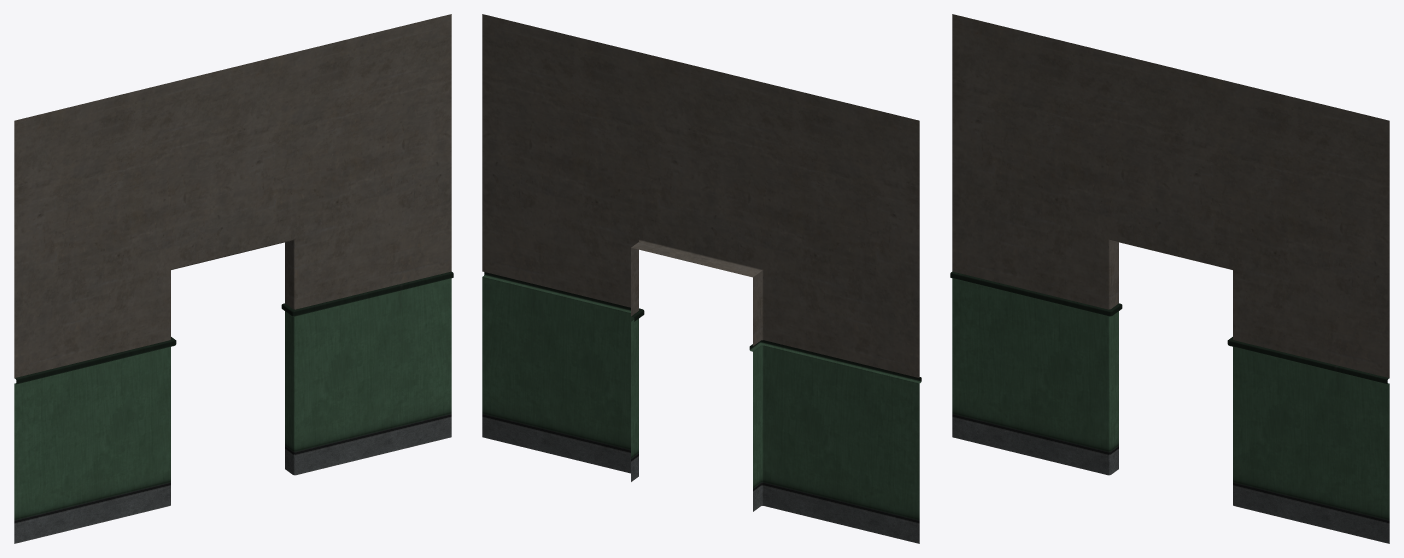
File: Psychiatric_Ward_Infirmary_Wall_4m_Door_A_Bare.glb
The picture shows the model from 3 angles, left to right: view 1: azimuth 30°, elevation 25°; view 2: azimuth 150°, elevation 25°; view 3: azimuth 330°, elevation 25°; orthographic projection.
Visible parts, largest first — view 1: Psychiatric_Ward_Infirmary_Wall_4m_Door_A_Bare; view 2: Psychiatric_Ward_Infirmary_Wall_4m_Door_A_Bare; view 3: Psychiatric_Ward_Infirmary_Wall_4m_Door_A_Bare.
Part boxes in pixels (x1=…): Psychiatric_Ward_Infirmary_Wall_4m_Door_A_Bare: x1=14, y1=14, x2=453, y2=543; Psychiatric_Ward_Infirmary_Wall_4m_Door_A_Bare: x1=482, y1=14, x2=921, y2=543; Psychiatric_Ward_Infirmary_Wall_4m_Door_A_Bare: x1=950, y1=14, x2=1389, y2=543.
Size of the model in its own units: 4 by 3.7 by 0.1737.
Materials: 2 (2 with a texture image).
